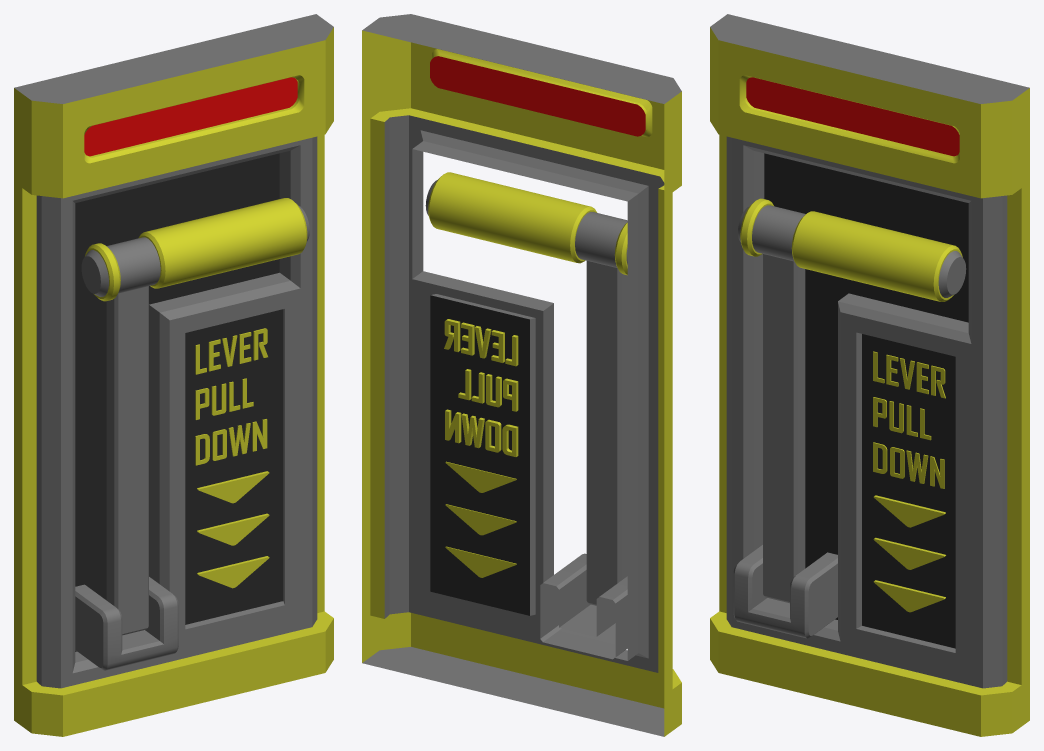
File: Lever_1.fbx
The picture shows the model from 3 angles, left to right: view 1: azimuth 30°, elevation 25°; view 2: azimuth 150°, elevation 25°; view 3: azimuth 330°, elevation 25°; orthographic projection.
Visible parts, largest first — view 1: Cube.004, Actual Lever, Text, Cube.006; view 2: Cube.004, Actual Lever, Text, Cube.006; view 3: Cube.004, Actual Lever, Text, Cube.006.
Part boxes in pixels (box(x1,y1,x2,y2)): Cube.004: box(14, 14, 333, 736); Actual Lever: box(81, 198, 309, 635); Text: box(195, 328, 267, 465); Cube.006: box(197, 471, 269, 588); Cube.004: box(362, 14, 681, 736); Actual Lever: box(425, 172, 627, 605); Text: box(444, 319, 518, 456); Cube.006: box(445, 461, 516, 577); Cube.004: box(710, 14, 1029, 736); Actual Lever: box(738, 198, 966, 603); Text: box(873, 351, 945, 488); Cube.006: box(873, 495, 945, 612).
Size of the model in its own units: 12 by 24 by 3.06.
